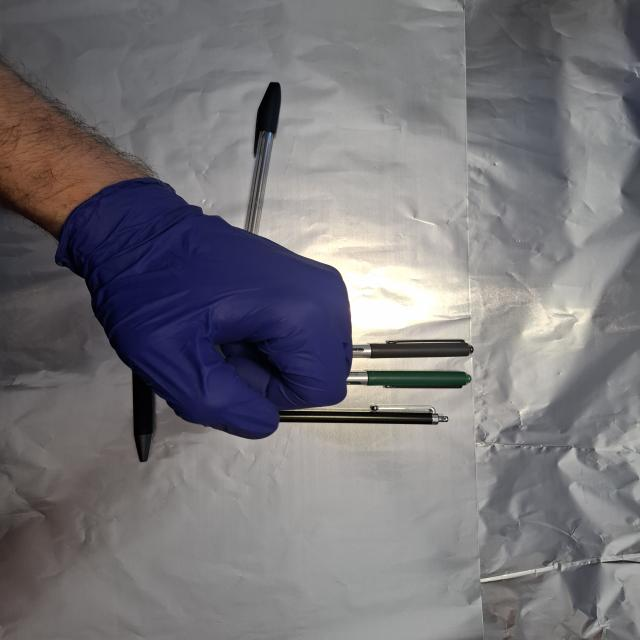glove_on: (53, 175, 358, 444)
